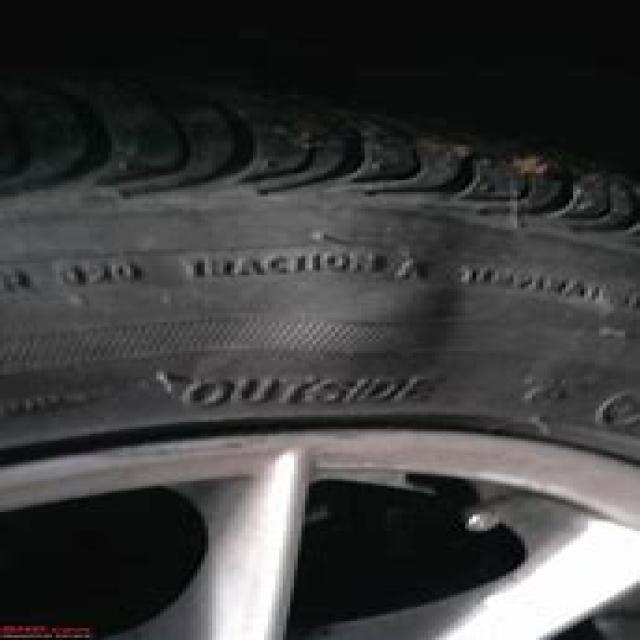Bulge: (231, 239, 476, 390)
